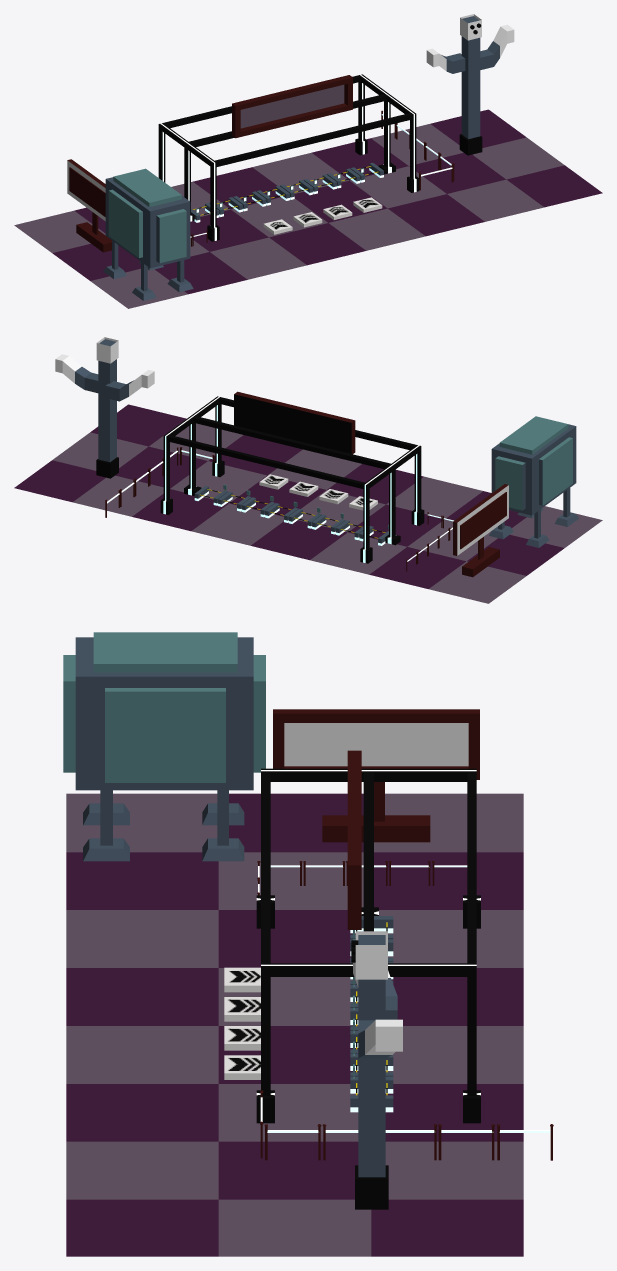
File: Entrance4.fbx
The picture shows the model from 3 angles, top to bottom: view 1: azimuth 30°, elevation 25°; view 2: azimuth 150°, elevation 25°; view 3: azimuth 270°, elevation 25°; orthographic projection. The views are drawn at different scales.
Parts seen in each view (by area): view 1: Plane.011, Cube.069, LogoDisplay, Cube.068, Cube.074, Cube.078; view 2: Plane.011, Cube.069, LogoDisplay, Cube.068, Cube.074, Cube.078; view 3: Plane.011, LogoDisplay, Cube.069, Cube.074, Cube.068, Cube.078, Cube.079, Cube.073, Cube.070, Cube.071, Cube.072.
Part boxes in pixels (x1,y1,x2,y2): Plane.011: (14, 109, 602, 308); Cube.069: (158, 74, 419, 241); LogoDisplay: (103, 168, 193, 300); Cube.068: (426, 14, 514, 155); Cube.074: (67, 159, 111, 252); Cube.078: (381, 110, 454, 190); Plane.011: (14, 404, 602, 603); Cube.069: (160, 391, 424, 563); LogoDisplay: (489, 416, 578, 547); Cube.068: (55, 337, 154, 478); Cube.074: (453, 484, 508, 577); Cube.078: (105, 447, 214, 517); Plane.011: (66, 793, 523, 1256); LogoDisplay: (63, 632, 265, 861); Cube.069: (256, 750, 480, 1123); Cube.074: (273, 709, 479, 842); Cube.068: (351, 931, 402, 1209); Cube.078: (260, 1090, 553, 1160); Cube.079: (257, 861, 467, 895); Cube.073: (224, 967, 260, 992); Cube.070: (224, 1055, 260, 1079); Cube.071: (224, 1026, 260, 1050); Cube.072: (224, 997, 260, 1021).
Size of the model in its own units: 3516 by 942 by 1572.
7 materials, 3 textured.
